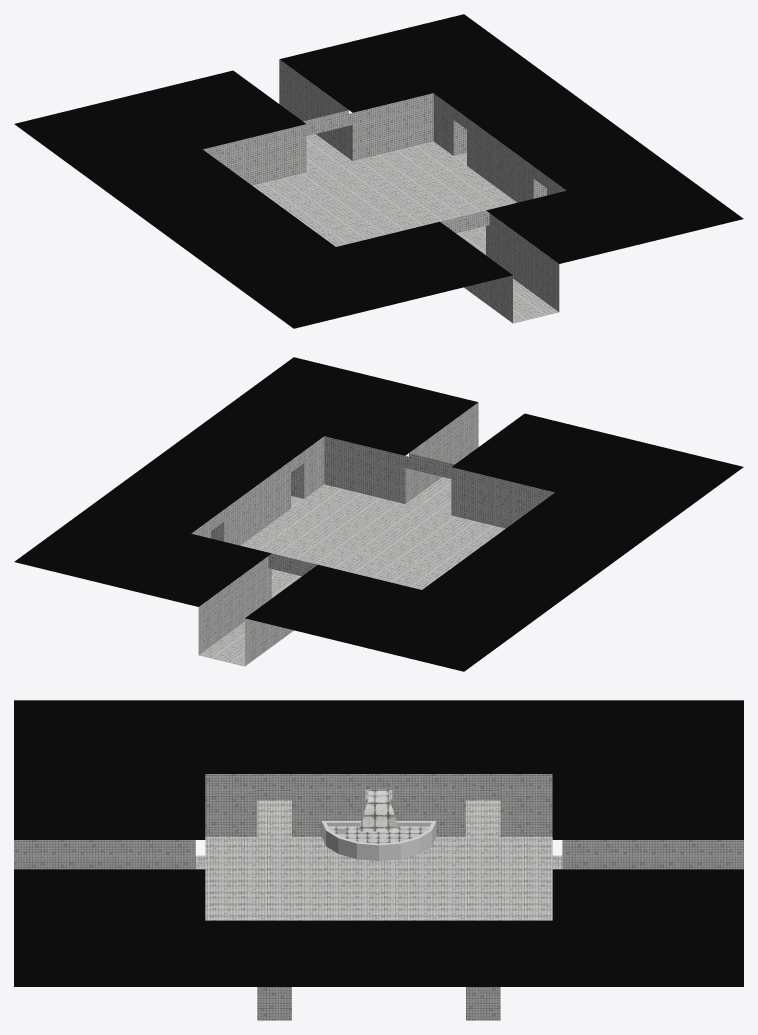
File: LockdownRoom1.glb
The picture shows the model from 3 angles, top to bottom: view 1: azimuth 30°, elevation 25°; view 2: azimuth 150°, elevation 25°; view 3: azimuth 270°, elevation 25°; orthographic projection. The views are drawn at different scales.
Visible parts, largest first — view 1: Plane; view 2: Plane; view 3: Plane, Cylinder, Plane.001, Cylinder.001.
Part boxes in pixels (box(x1,y1,x2,y2)): Plane: box(14, 14, 743, 328); Plane: box(14, 357, 743, 671); Plane: box(14, 700, 743, 1020); Cylinder: box(321, 821, 436, 860); Plane.001: box(358, 789, 399, 831); Cylinder.001: box(328, 826, 429, 843).
Size of what is drawn, in the model's own units: 39 by 5 by 42.
2 materials, 1 textured.
